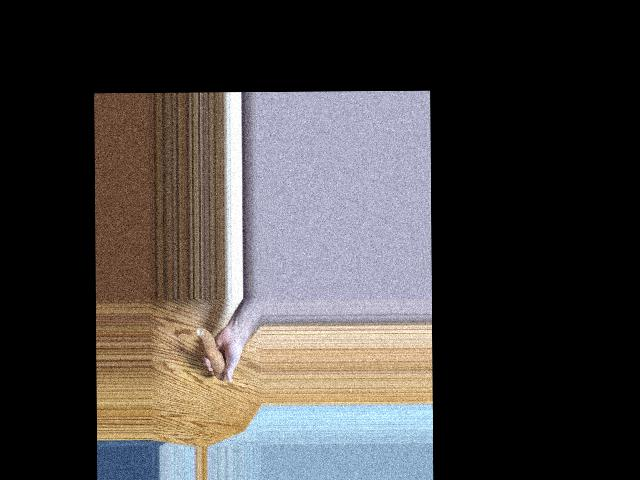sweet_potato: (196, 324, 226, 378)
